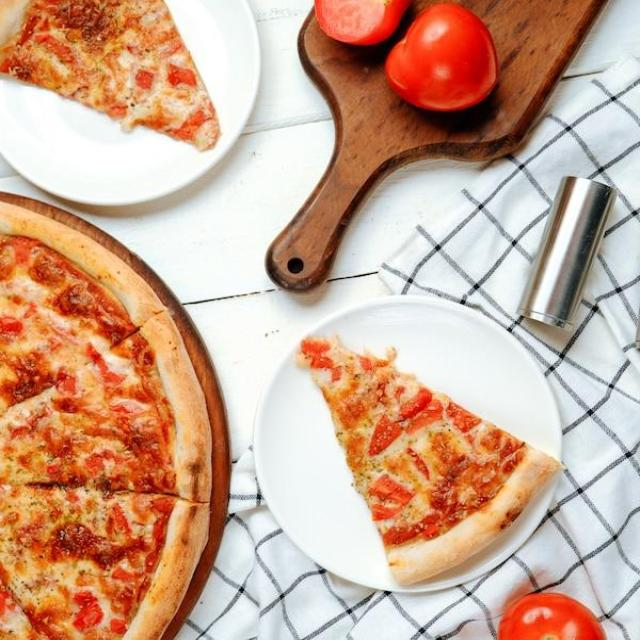pizza: (0, 198, 212, 639), (299, 338, 571, 590), (0, 0, 219, 154)
